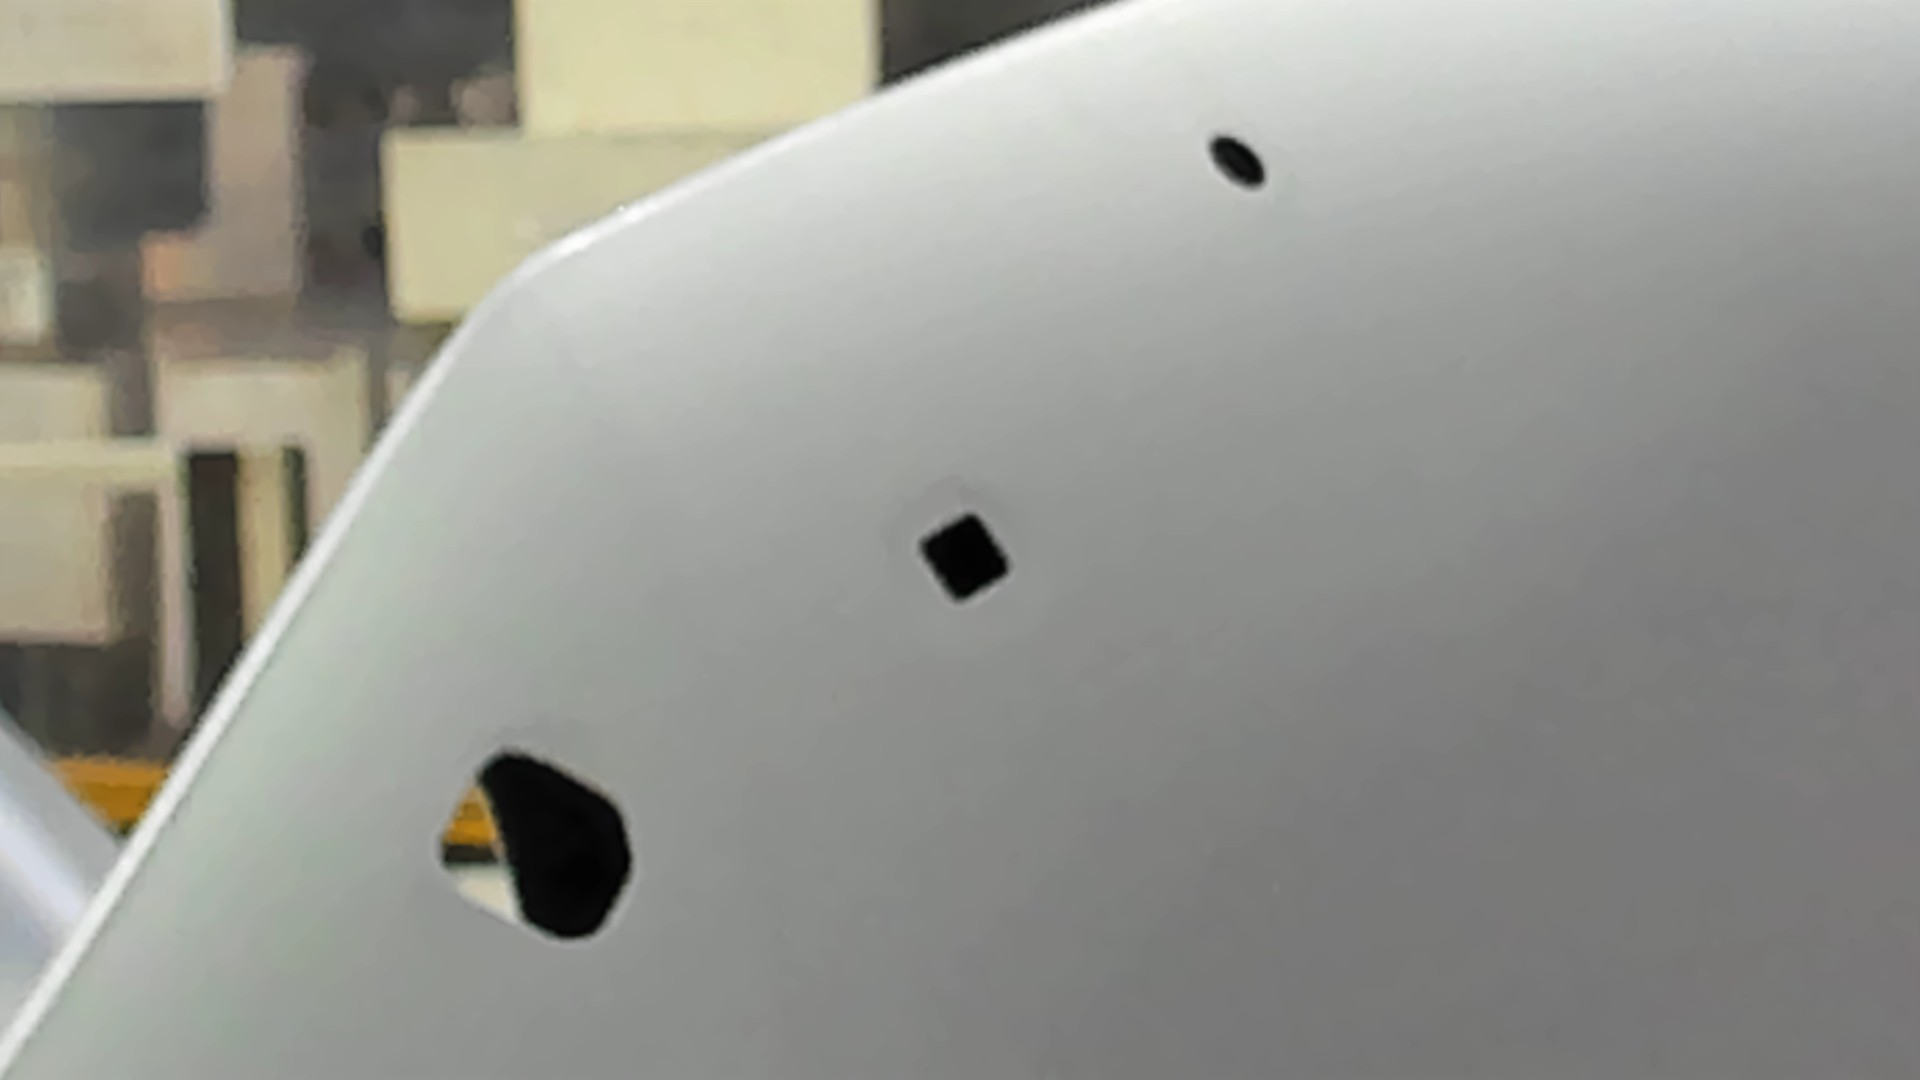capo: (1036, 200, 1920, 1080)
chico: (1203, 128, 1270, 194)
grande: (430, 737, 641, 951)
mediano: (910, 505, 1021, 615)
